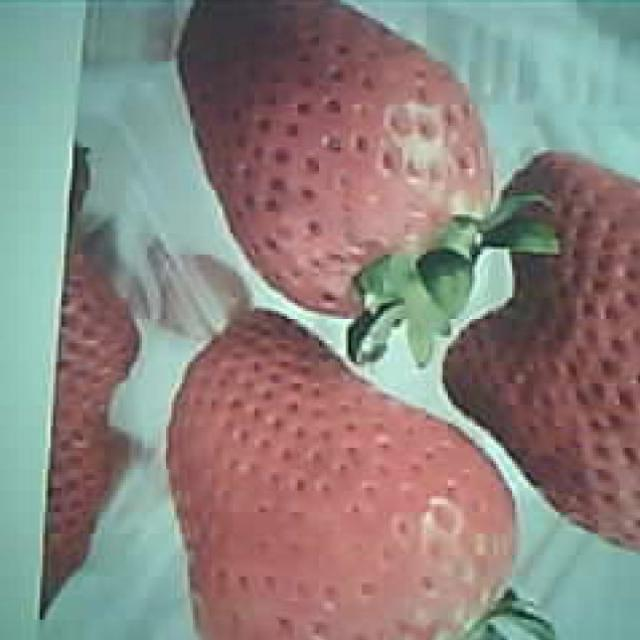Healthy Fruit: (164, 307, 518, 638), (179, 5, 492, 315)
